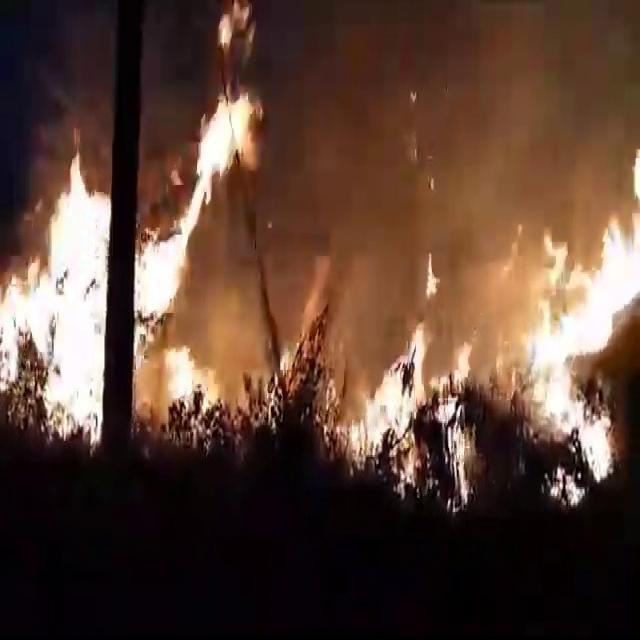Fire: (44, 194, 108, 433), (544, 302, 612, 380), (134, 230, 188, 316), (593, 221, 640, 310), (202, 97, 240, 162)
